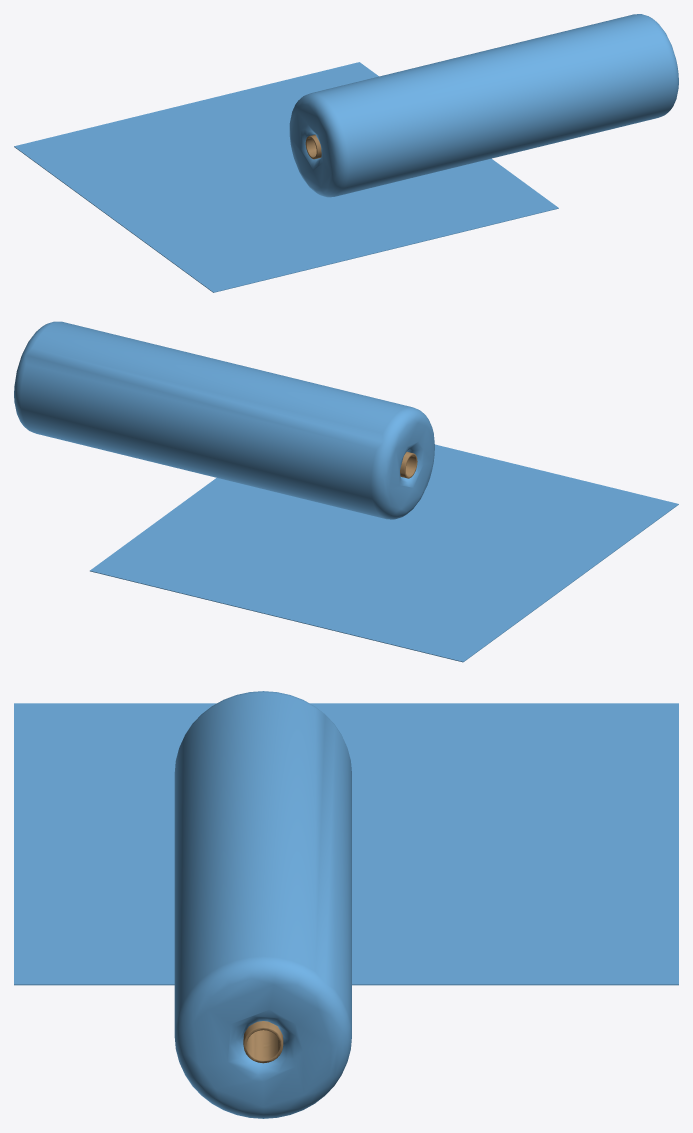
The model's file is SER-AND-004_lod1.glb.
3 views of the same model, one above another, from view 1: azimuth 30°, elevation 25°; view 2: azimuth 150°, elevation 25°; view 3: azimuth 270°, elevation 25° (orthographic). The views are drawn at different scales.
Visible parts, largest first — view 1: SER-AND-004_aba, SER-AND-004_rolo; view 2: SER-AND-004_aba, SER-AND-004_rolo; view 3: SER-AND-004_aba, SER-AND-004_rolo, SER-AND-004_tubete.
Part boxes in pixels (x1,y1,x2,y2): SER-AND-004_aba: (14, 62, 558, 292); SER-AND-004_rolo: (289, 14, 678, 197); SER-AND-004_aba: (90, 444, 678, 662); SER-AND-004_rolo: (14, 321, 434, 519); SER-AND-004_aba: (14, 703, 678, 985); SER-AND-004_rolo: (174, 691, 351, 1118); SER-AND-004_tubete: (243, 1021, 283, 1063).
Size of the model in its own units: 1.8 by 0.32 by 1.2.
2 materials, 1 textured.
